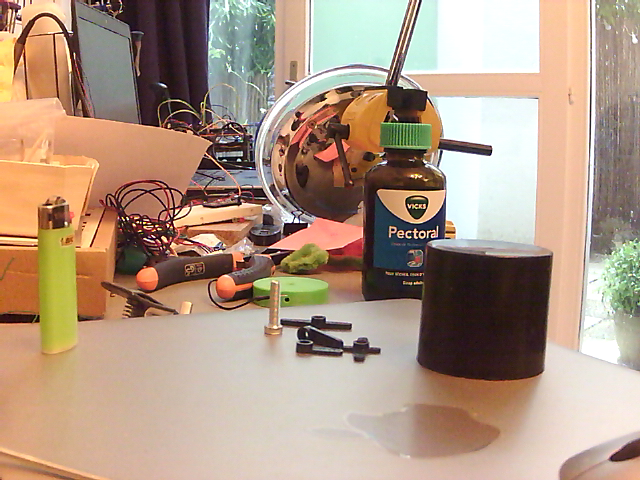bolt: (264, 280, 283, 338)
lighter: (36, 196, 78, 354)
